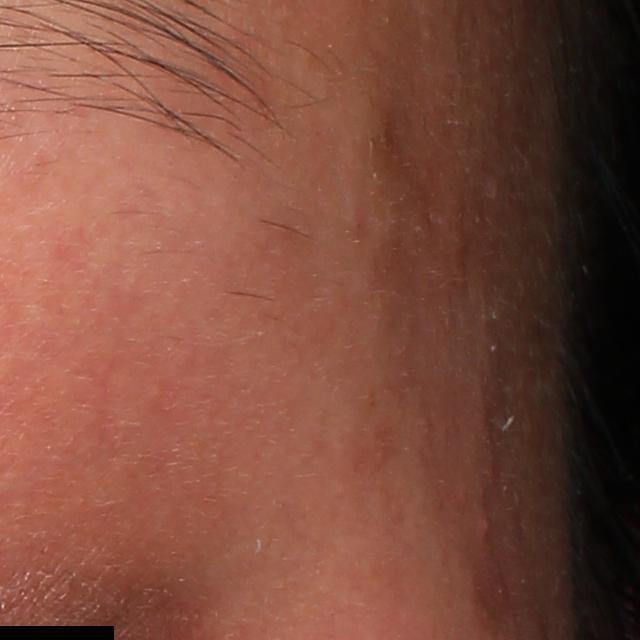papule: (477, 512, 501, 545)
